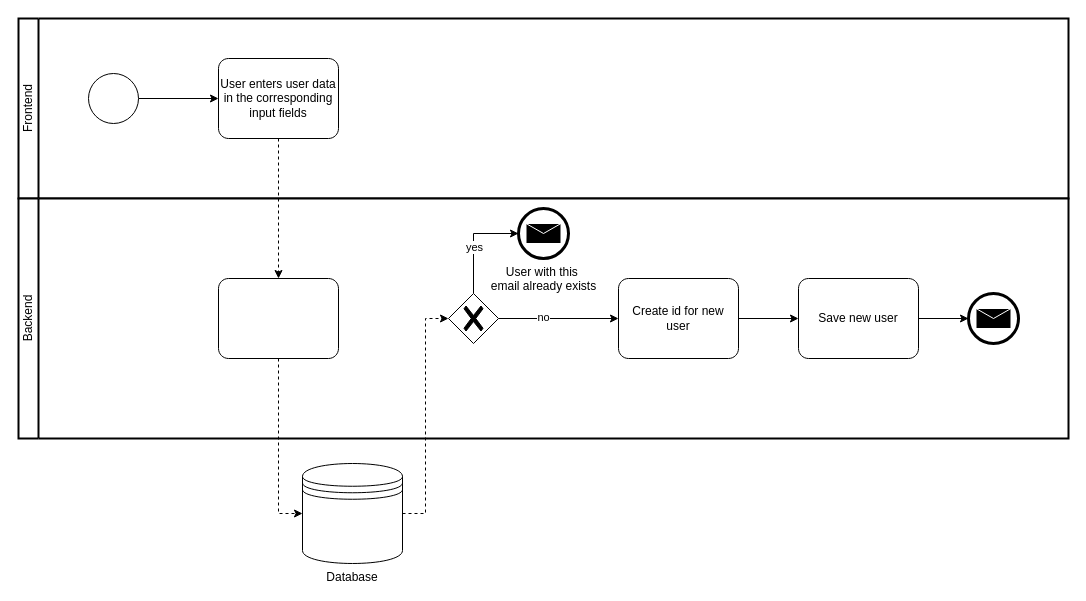
This 1086x601 diagram has some shape labels left out. The centre of each missing label's shape, as x and y in pixels:
"Email already exists?" goes at point 473,318.
"Search for email address in database" goes at point 278,318.
"User succesfully created" goes at point 993,318.
